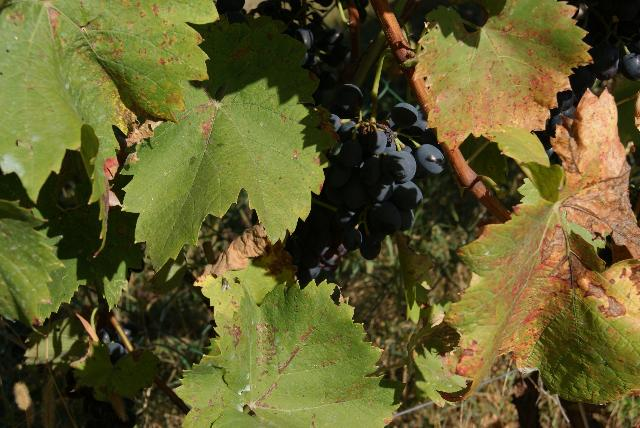grapes: (285, 85, 445, 282)
